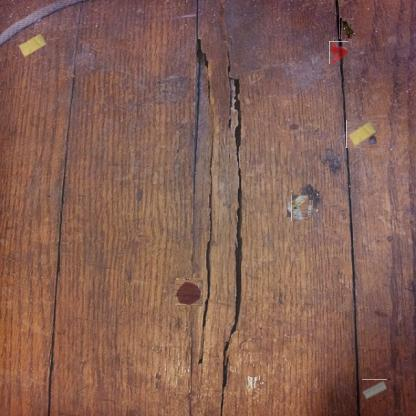dirty: (347, 120, 376, 149), (18, 32, 50, 58), (361, 379, 387, 400), (289, 198, 311, 219), (339, 17, 355, 39)
liquid: (176, 278, 202, 306), (329, 41, 348, 64)
